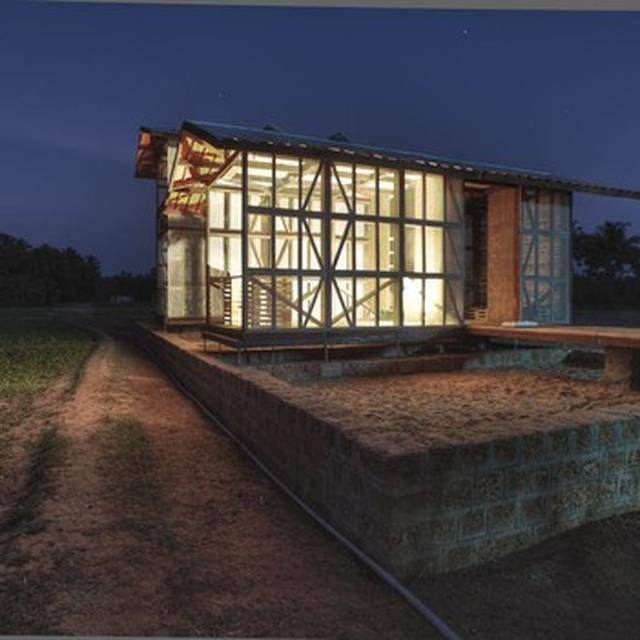building: (126, 116, 640, 342)
